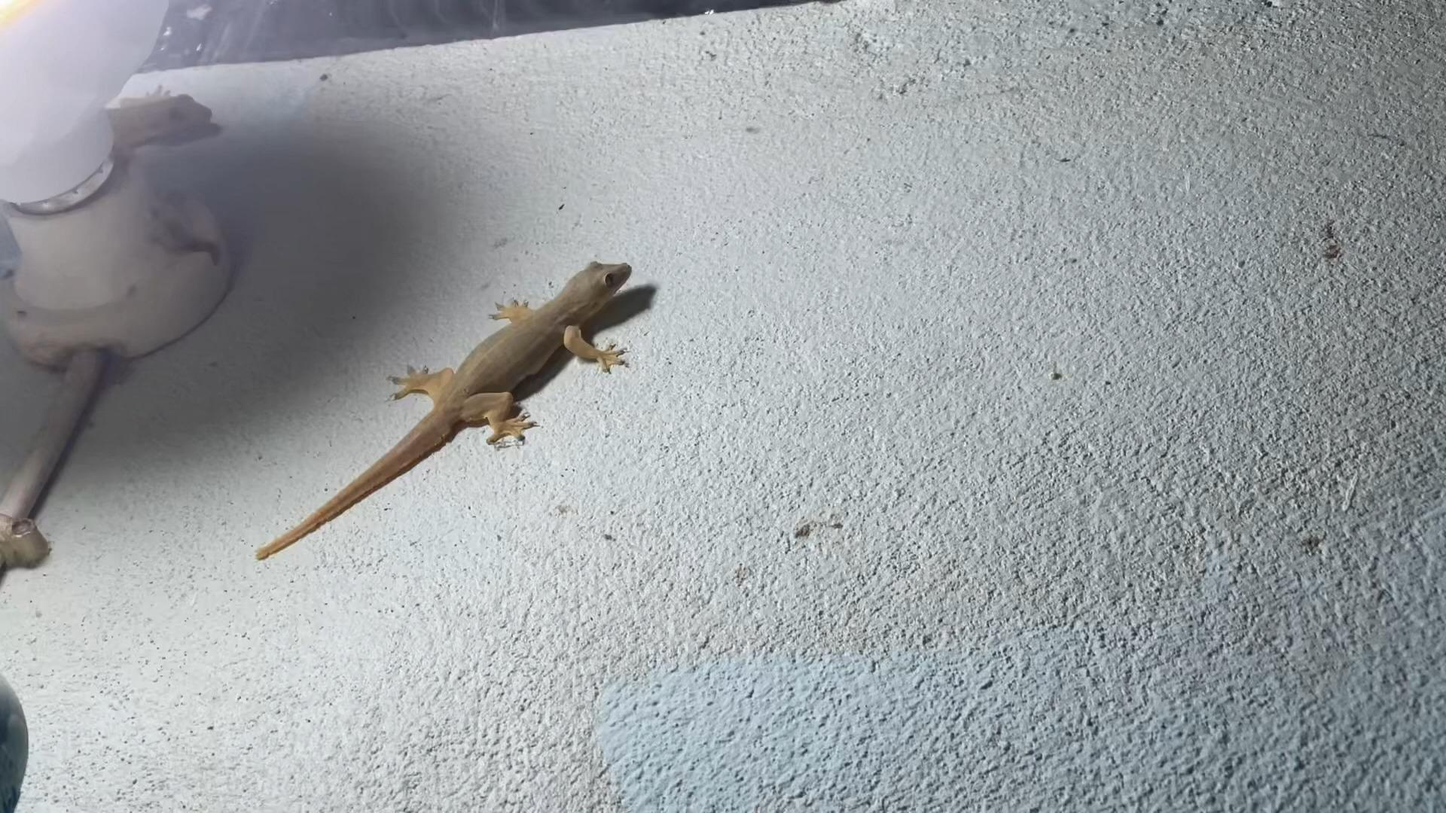lizard: (256, 259, 632, 586)
